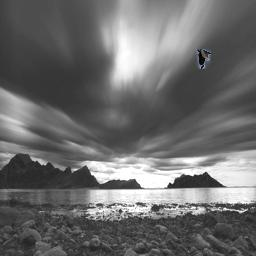Crow: (196, 49, 211, 69)
